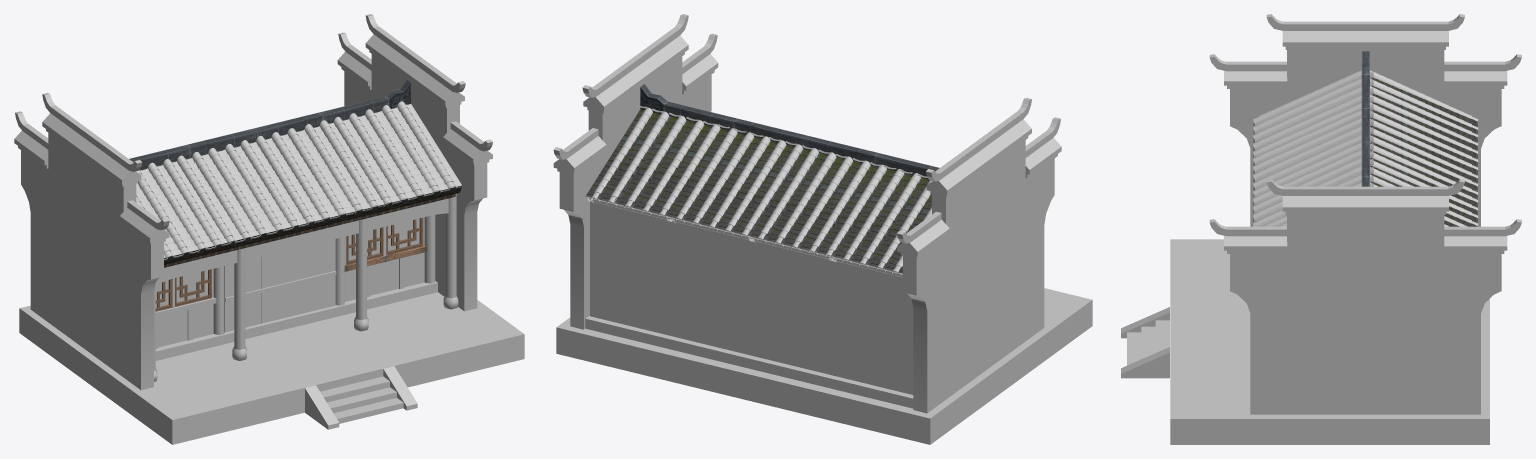
The picture shows the model from 3 angles, left to right: view 1: azimuth 30°, elevation 25°; view 2: azimuth 150°, elevation 25°; view 3: azimuth 270°, elevation 25°; orthographic projection. The views are drawn at different scales.
Parts seen in each view (by area): view 1: house, 门, 瓦04, 瓦06, 瓦07, 瓦03, 瓦05, 瓦08, 顶, 瓦02, 瓦01, 柱子04 (+4 smaller); view 2: house, 顶; view 3: house, 瓦03, 瓦01, 瓦02, 瓦04, 瓦05, 瓦06, 顶.
Part boxes in pixels (box(x1,y1,x2,y2)): house: box(14, 14, 524, 444); 门: box(224, 239, 336, 332); 瓦04: box(202, 179, 309, 245); 瓦06: box(282, 160, 388, 223); 瓦07: box(359, 141, 462, 206); 瓦03: box(177, 140, 278, 202); 瓦05: box(256, 120, 356, 182); 瓦08: box(333, 101, 433, 163); 顶: box(129, 80, 410, 170); 瓦02: box(149, 199, 231, 260); 瓦01: box(136, 159, 199, 213); 柱子04: box(443, 193, 458, 309); house: box(553, 14, 1092, 444); 顶: box(640, 84, 939, 179); house: box(1121, 14, 1521, 444); 瓦03: box(1306, 109, 1373, 171); 瓦01: box(1306, 70, 1373, 132); 瓦02: box(1253, 95, 1312, 157); 瓦04: box(1253, 134, 1312, 197); 瓦05: box(1306, 149, 1373, 186); 瓦06: box(1253, 174, 1312, 226); 顶: box(1361, 51, 1369, 186).
Size of the model in its own units: 271 by 180 by 255.
